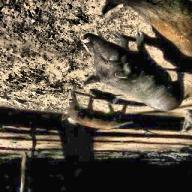boar: (80, 32, 187, 112)
